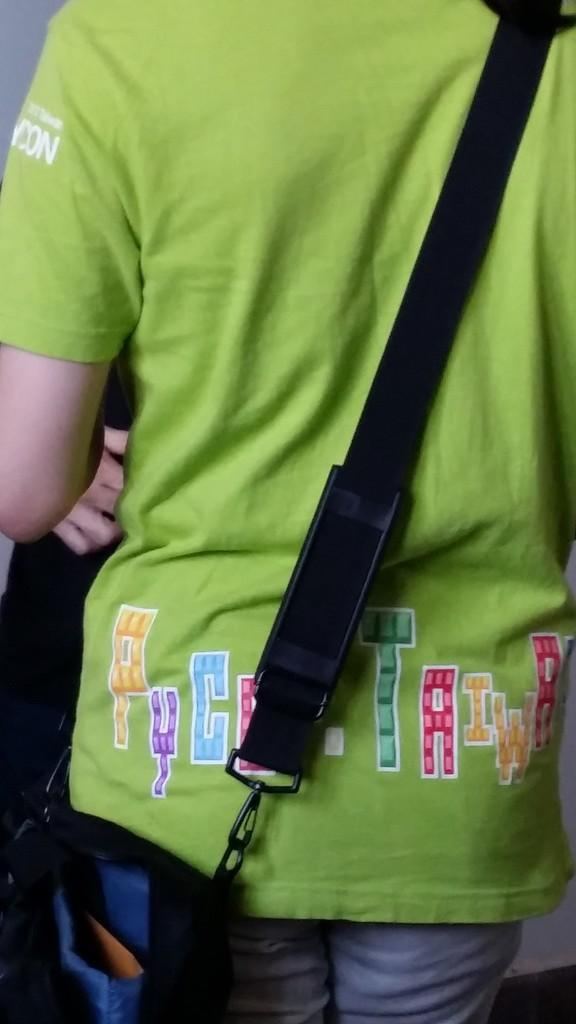Luggage-and-bags: (0, 0, 563, 1023)
